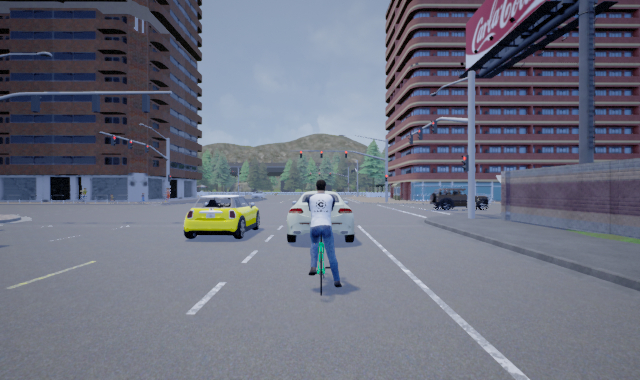bike: (307, 179, 342, 296)
pedestrian: (79, 186, 89, 202), (163, 186, 170, 202)
traffic_light: (462, 153, 470, 171), (111, 133, 117, 147), (431, 120, 437, 133), (128, 138, 134, 150), (417, 127, 422, 139), (299, 149, 304, 159), (384, 172, 389, 181), (344, 149, 348, 159), (145, 142, 149, 152), (320, 148, 323, 159)
vehicle: (285, 191, 354, 243), (183, 192, 260, 238), (429, 187, 488, 211)
